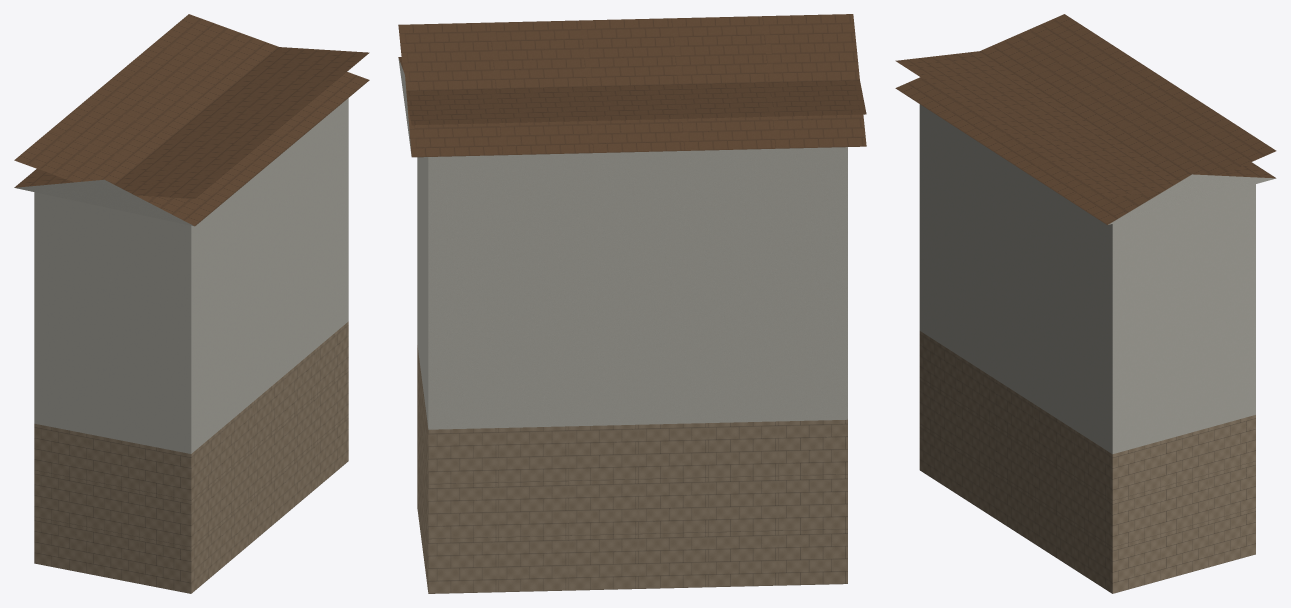
Rendered from bld_c23_44_384.gltf.
3 renders of one model, left to right at view 1: azimuth 30°, elevation 25°; view 2: azimuth 150°, elevation 25°; view 3: azimuth 270°, elevation 25°, orthographic. The views are drawn at different scales.
Parts seen in each view (by area): view 1: bld_c23_44_384; view 2: bld_c23_44_384; view 3: bld_c23_44_384.
Boxes of the visible parts, bbox=[...] form: bld_c23_44_384: bbox=[14, 14, 369, 593]; bld_c23_44_384: bbox=[398, 14, 866, 593]; bld_c23_44_384: bbox=[895, 14, 1276, 593].
Bounding box in the file's own units: 14.4 × 14.8 × 12.63.
Materials: 4 (4 with a texture image).
